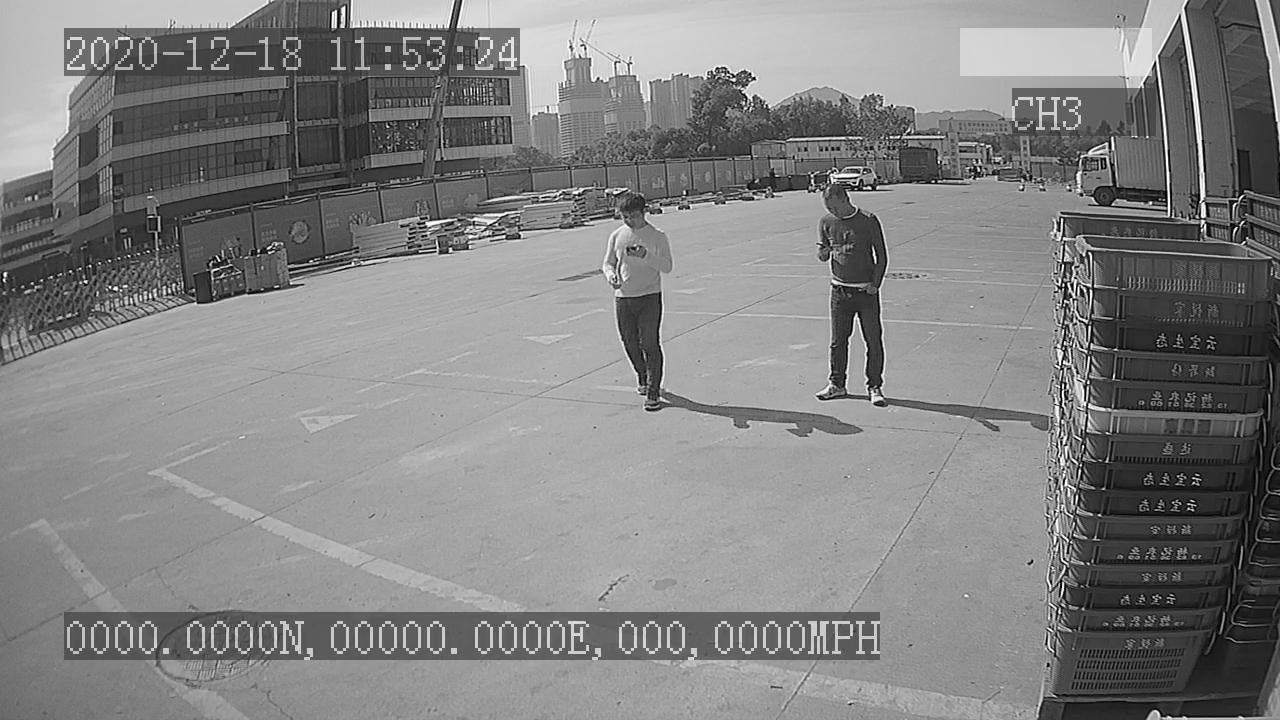person: (809, 179, 897, 411), (592, 185, 677, 417)
